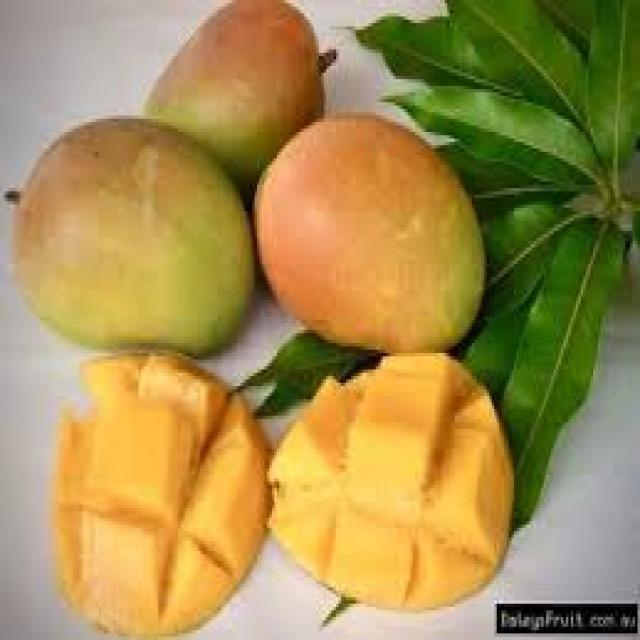Mango: (264, 350, 514, 614), (52, 350, 272, 634), (8, 112, 254, 356), (252, 109, 487, 353), (141, 0, 336, 198)
